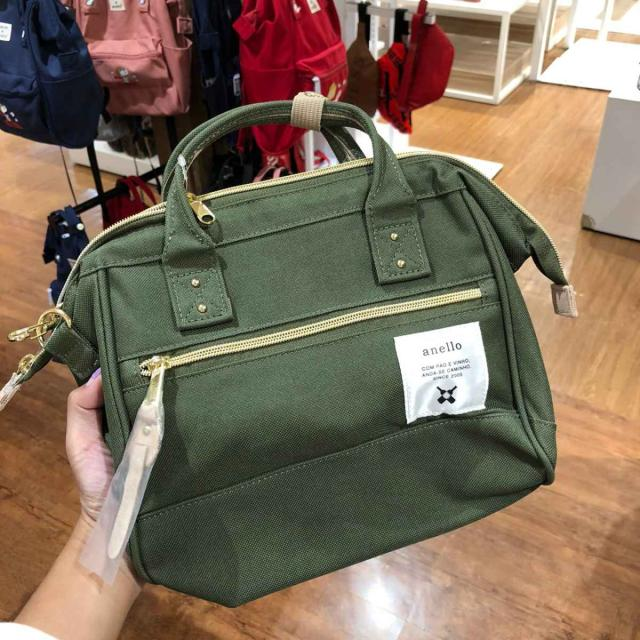handbag: (54, 99, 557, 612)
